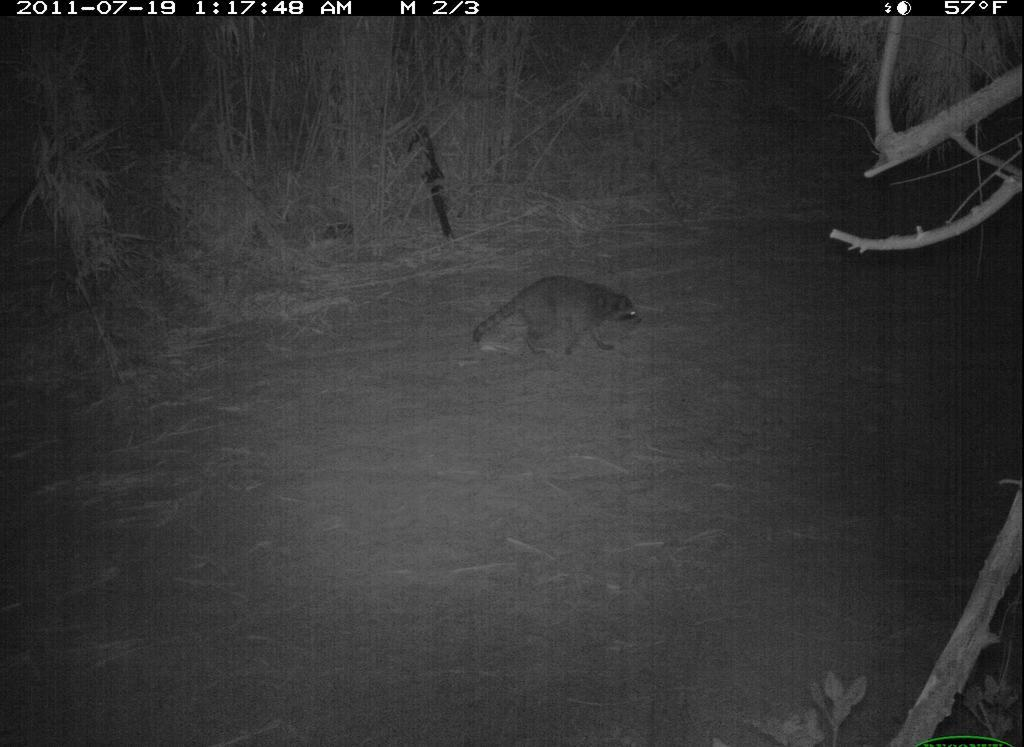raccoon: (464, 253, 667, 374)
